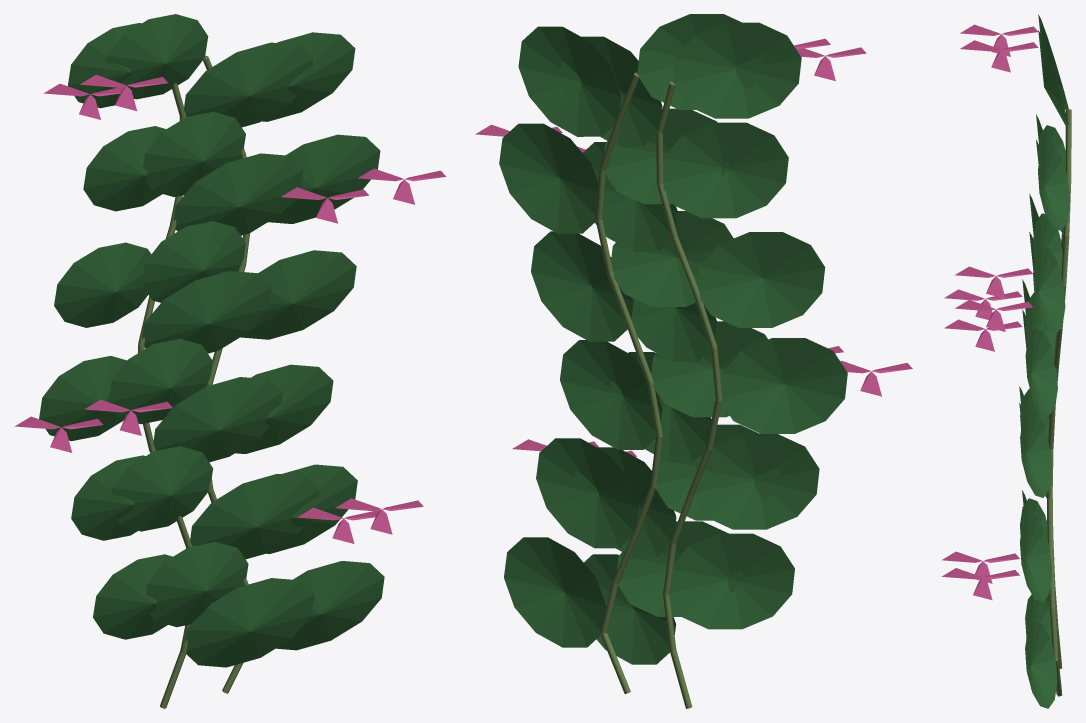
The model's file is bougainvillea-spectabilis.glb.
3 views of the same model, side by side, from view 1: azimuth 30°, elevation 25°; view 2: azimuth 150°, elevation 25°; view 3: azimuth 270°, elevation 25° (orthographic). The views are drawn at different scales.
Visible parts, largest first — view 1: Climber species leaves, Species flowers / bracts, Climber species stems; view 2: Climber species leaves, Climber species stems, Species flowers / bracts; view 3: Climber species leaves, Species flowers / bracts, Climber species stems.
Part boxes in pixels (x1=…): Climber species leaves: x1=39, y1=14, x2=384, y2=667; Species flowers / bracts: x1=15, y1=75, x2=446, y2=543; Climber species stems: x1=138, y1=55, x2=249, y2=708; Climber species leaves: x1=499, y1=14, x2=847, y2=664; Climber species stems: x1=595, y1=72, x2=722, y2=708; Species flowers / bracts: x1=475, y1=38, x2=912, y2=456; Climber species leaves: x1=1019, y1=14, x2=1070, y2=708; Species flowers / bracts: x1=941, y1=24, x2=1038, y2=600; Climber species stems: x1=1047, y1=109, x2=1071, y2=696.
Size of the model in its own units: 0.5399 by 0.865 by 0.1639.
